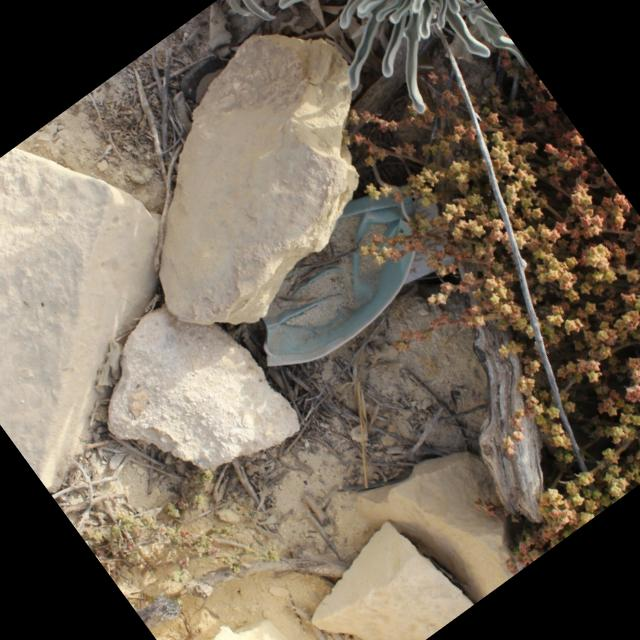Other plastic: (262, 183, 452, 369)
